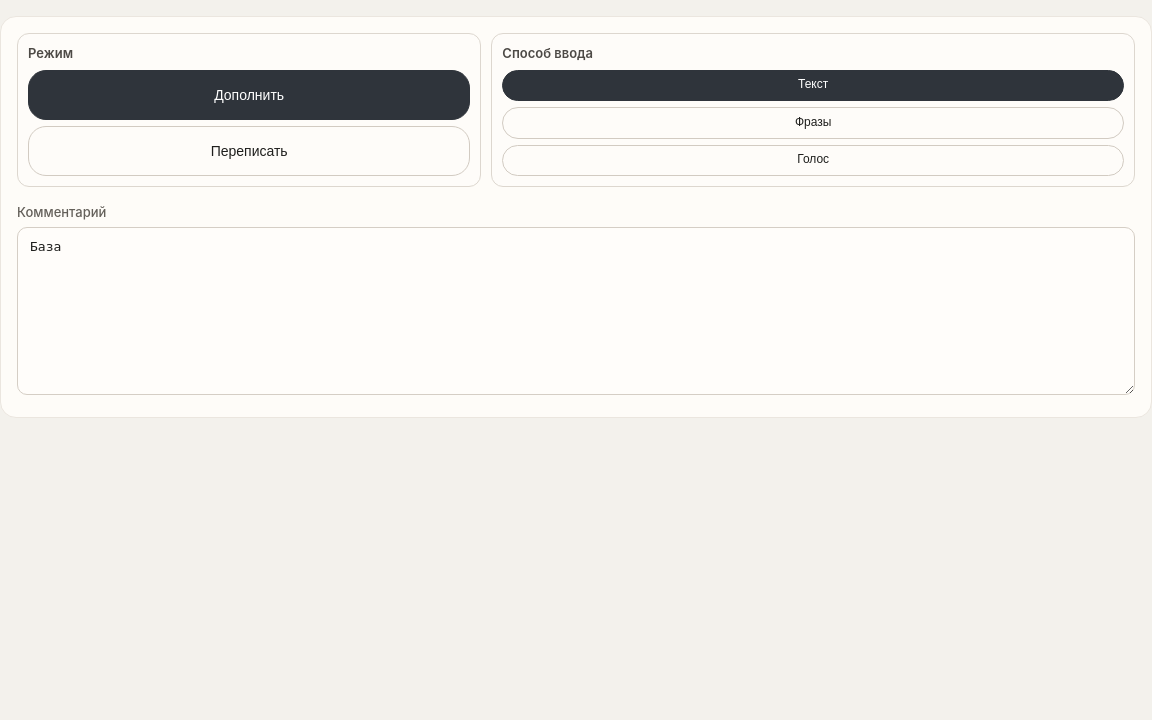
CommentComposer › shows a distinct ready state when voice input is supported
Click the button "Голос". click: (813, 160)
box: [502,144,1124,176]
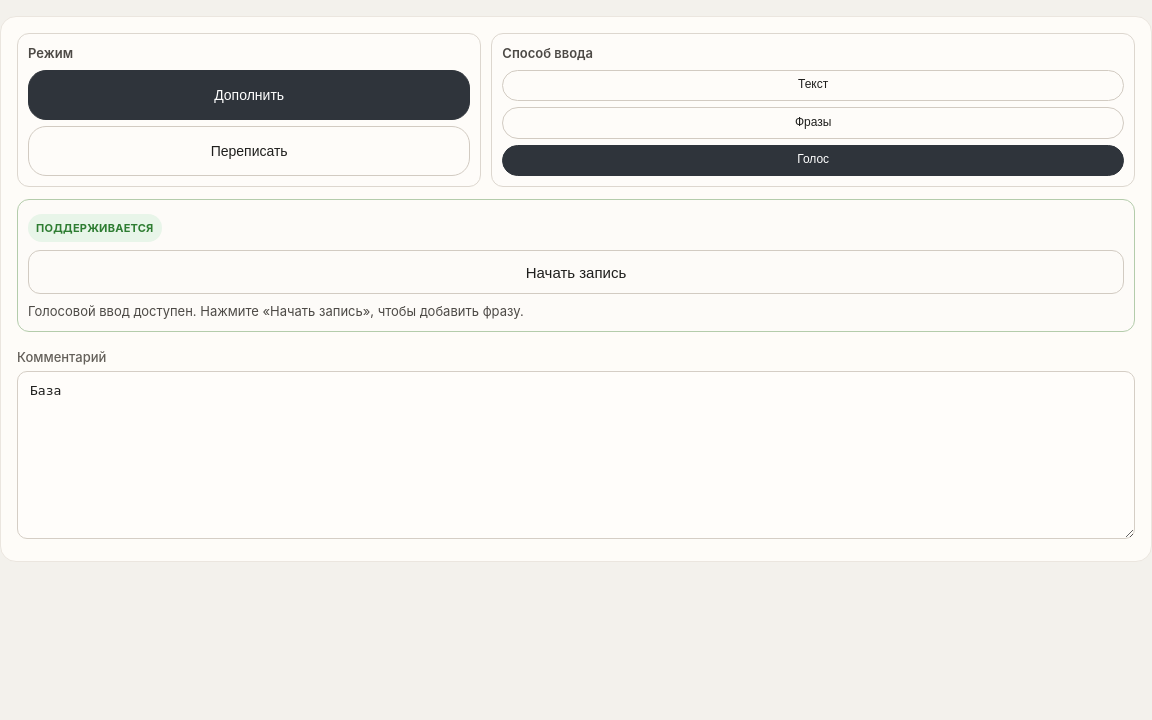
Expected: the text "Голосовой ввод доступен. Нажмите «Начать запись», чтобы добавить фразу." is shown, [28,303,524,319]
